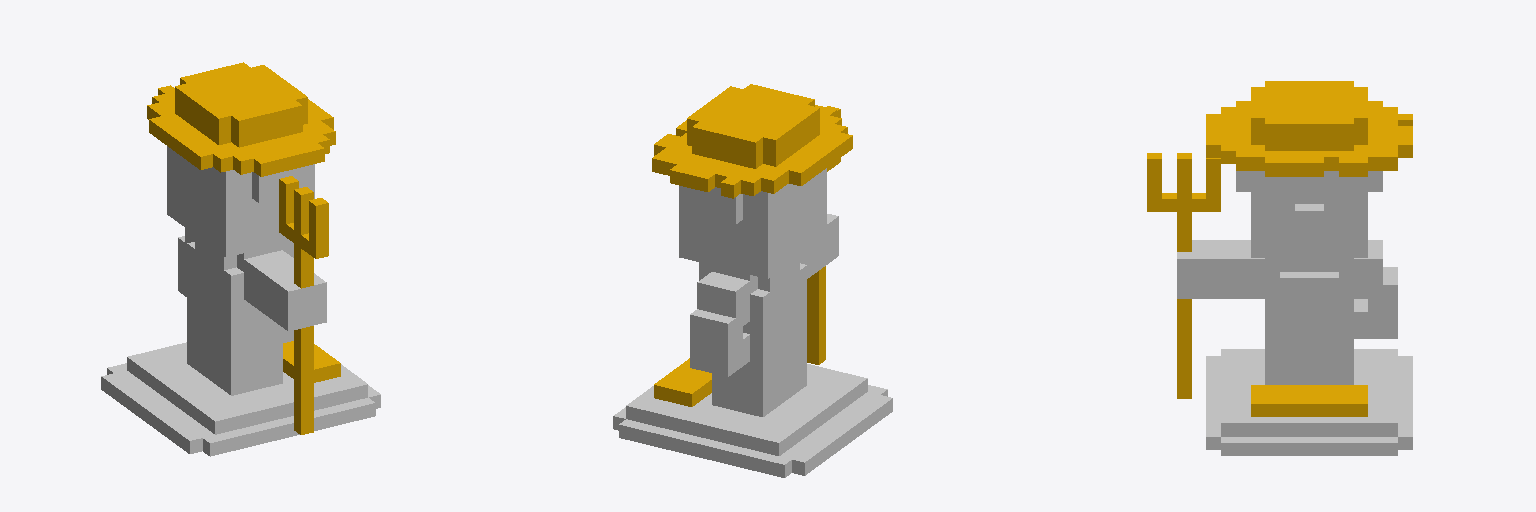
3 views of the same model, side by side, from view 1: azimuth 30°, elevation 25°; view 2: azimuth 150°, elevation 25°; view 3: azimuth 270°, elevation 25° (orthographic).
Visible parts, largest first — view 1: object 1; view 2: object 1; view 3: object 1.
Part boxes in pixels (x1,y1,x2,y2): object 1: (101,62,380,456); object 1: (613,84,892,477); object 1: (1147,81,1412,455).
Bounding box in the file's own units: 1.5 × 2.3 × 1.8.
1 materials, 1 textured.